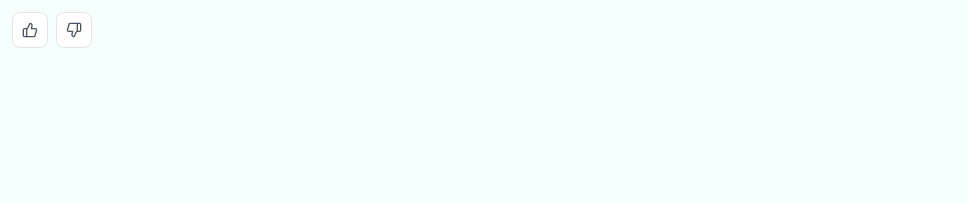
Test: MessageFeedback › keeps the comment box open and toasts when sending the comment fails
The width and height of the screenshot is (968, 203).
Click the button named "Not helpful" at (74, 30), box 56,12 -> 92,48
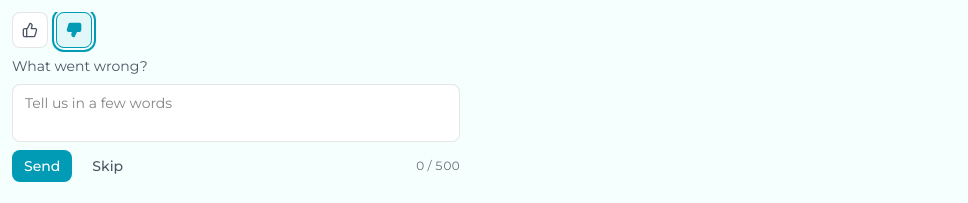
Type "x" into the text box at (236, 113), box 12,84 -> 460,142
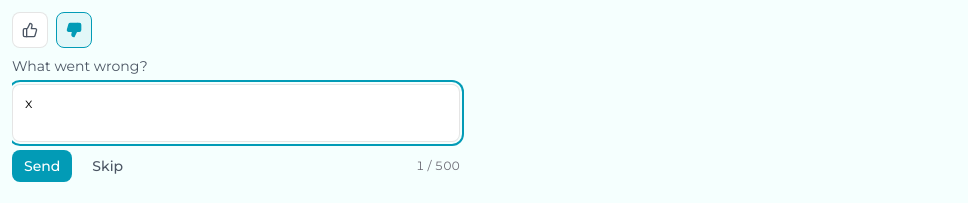
Click the button "Send" at (42, 166), box 12,150 -> 72,182
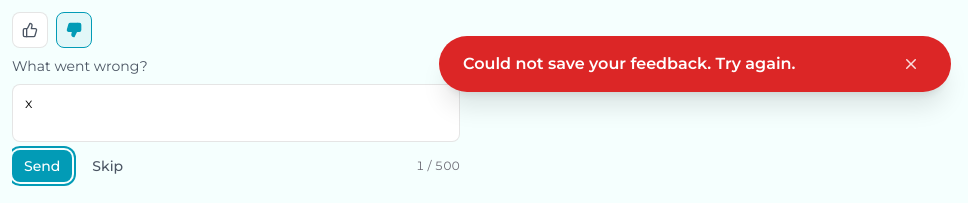
Check: the text "Could not save your feedback. Try again." is shown, box 463,52 -> 795,76
